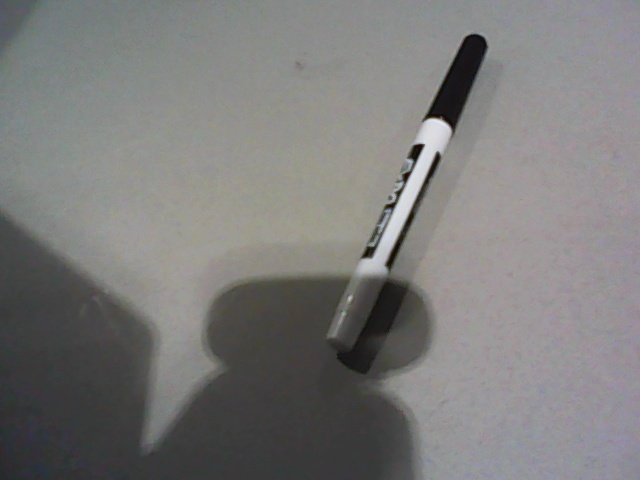marker: (324, 34, 489, 354)
